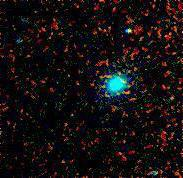star: (114, 20, 144, 50)
